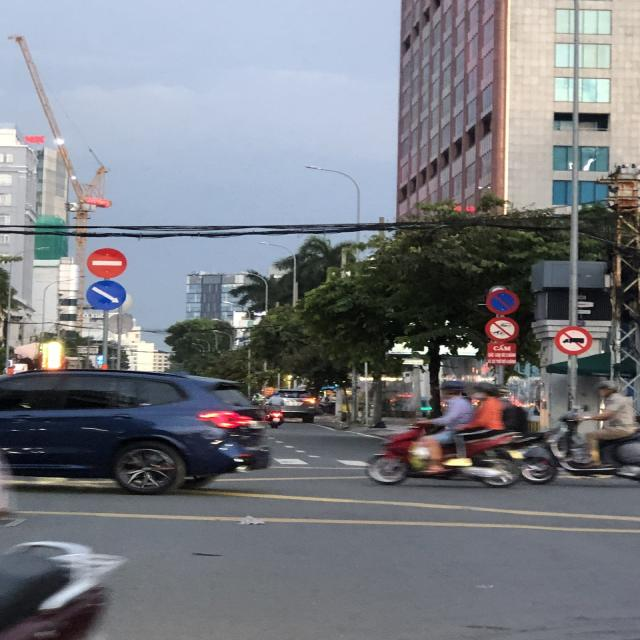Bien bao cam di nguoc chieu: (86, 245, 130, 280)
Bien bao cam do xe: (483, 289, 520, 315)
Bien bao cam xe so-mi ro-mooc: (552, 323, 595, 356)
Bien bao huong phai di vong chuong ngai vat: (86, 279, 130, 312)
